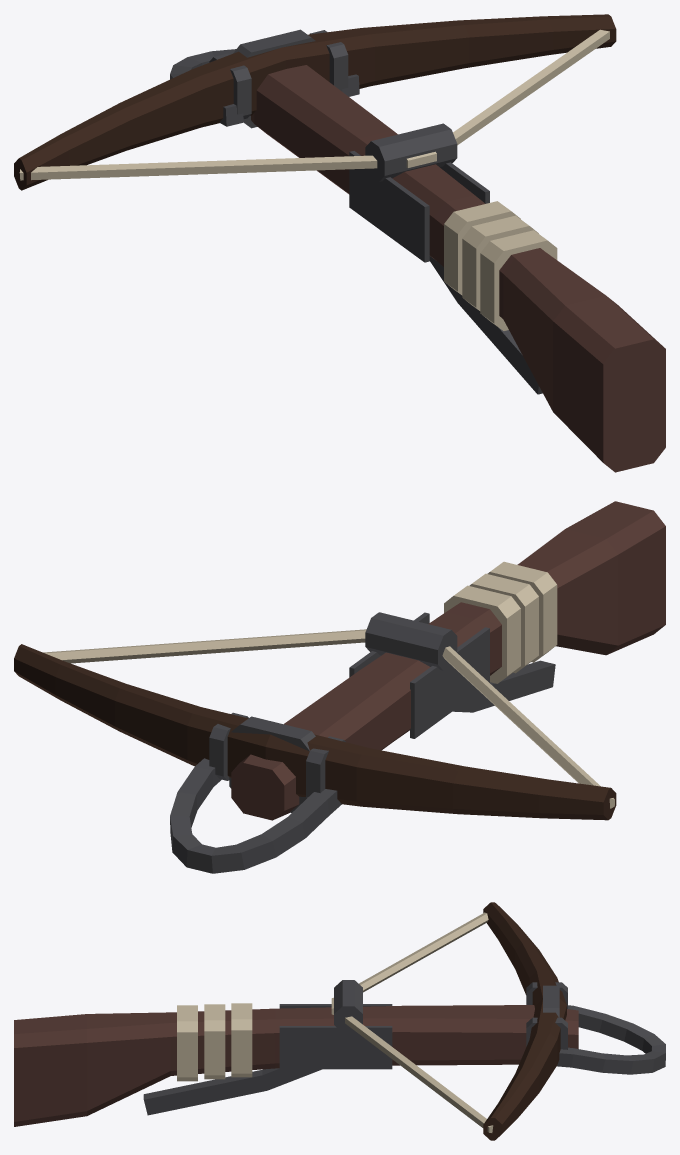
Rendered from crossbow.fbx.
3 views of the same model, one above another, from view 1: azimuth 30°, elevation 25°; view 2: azimuth 150°, elevation 25°; view 3: azimuth 270°, elevation 25° (orthographic). The views are drawn at different scales.
Parts seen in each view (by area): view 1: Crossbow_Stock, Crossbow_Prod, Crossbow_Wool, Crossbow_Iron; view 2: Crossbow_Stock, Crossbow_Prod, Crossbow_Iron, Crossbow_Wool; view 3: Crossbow_Stock, Crossbow_Iron, Crossbow_Wool, Crossbow_Prod.
Part boxes in pixels (box(x1,y1,x2,y2)): Crossbow_Stock: box(251, 65, 665, 472); Crossbow_Prod: box(14, 14, 616, 190); Crossbow_Wool: box(19, 29, 609, 330); Crossbow_Iron: box(170, 29, 542, 394); Crossbow_Stock: box(231, 501, 665, 820); Crossbow_Prod: box(14, 644, 616, 820); Crossbow_Iron: box(170, 612, 555, 873); Crossbow_Wool: box(43, 561, 614, 808); Crossbow_Stock: box(14, 1005, 578, 1126); Crossbow_Iron: box(143, 980, 665, 1115); Crossbow_Wool: box(177, 912, 493, 1132); Crossbow_Prod: box(483, 902, 566, 1140).
Size of the model in its own units: 3.08 by 0.8366 by 3.9.
